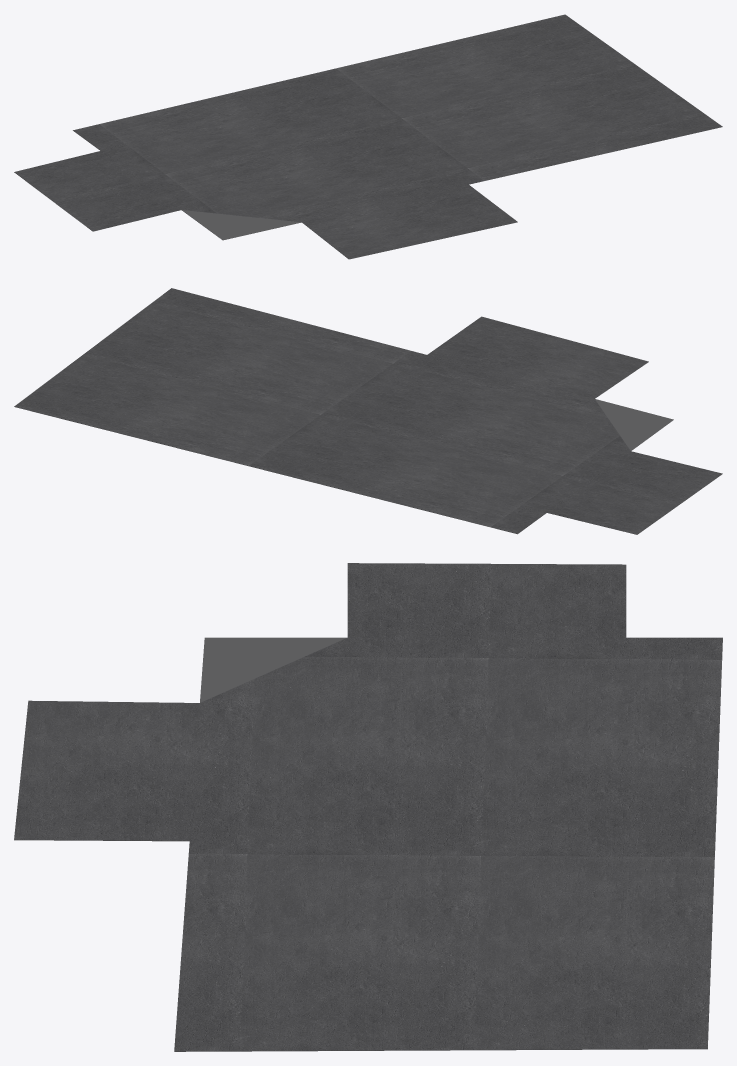
The model's file is pavimentoBagno2.glb.
3 renders of one model, top to bottom at view 1: azimuth 30°, elevation 25°; view 2: azimuth 150°, elevation 25°; view 3: azimuth 270°, elevation 25°, orthographic. The views are drawn at different scales.
Parts seen in each view (by area): view 1: PavimentoBagno2; view 2: PavimentoBagno2; view 3: PavimentoBagno2.
Boxes of the visible parts, left/top/right/bottom form: PavimentoBagno2: left=14, top=14, right=722, bottom=259; PavimentoBagno2: left=14, top=288, right=722, bottom=534; PavimentoBagno2: left=14, top=563, right=722, bottom=1051.
Bounding box in the file's own units: 2.73 × 0.001 × 1.67.
Materials: 1 (1 with a texture image).
